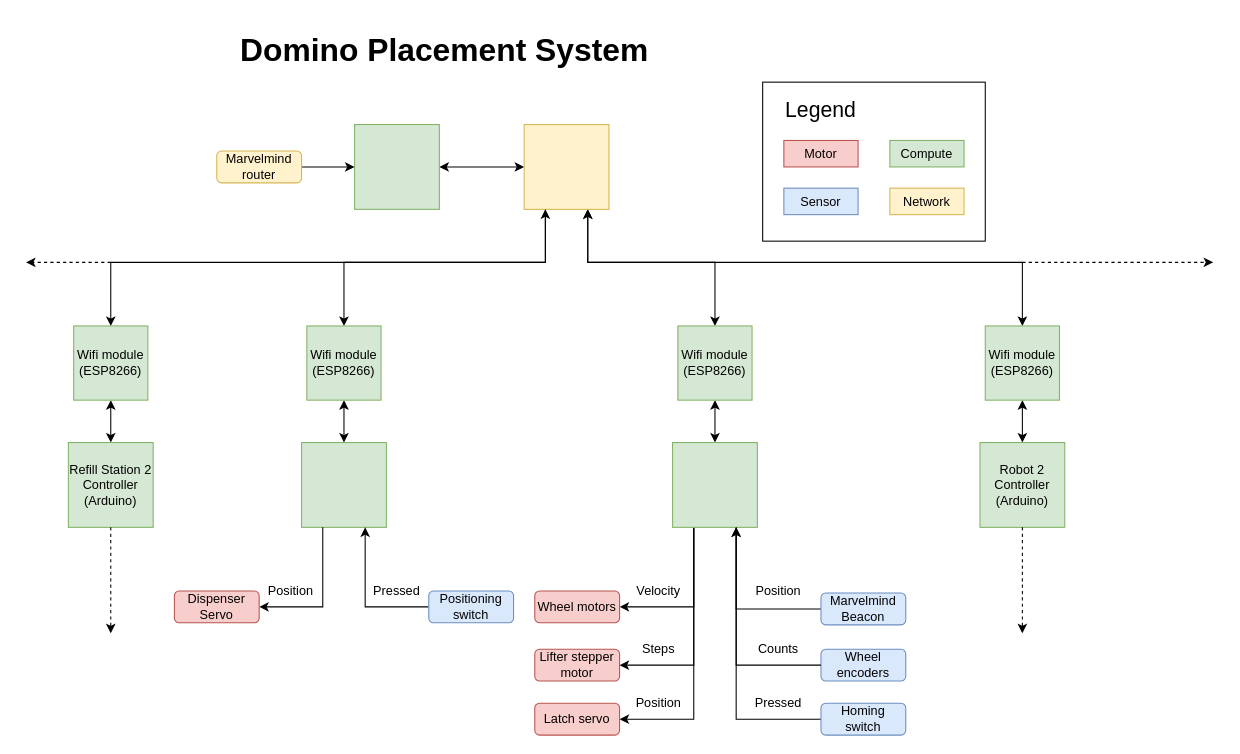
Image size: 1240x754. Some labels were removed from this diagram. The shapes that lost their labels are listed below. From the top down, each one's centre as x and y in pixels, then its label:
(396,166): Master PC
(566,166): Network switch/router
(343,484): Refill Station 1 Controller (Arduino)
(714,484): Robot 1 Controller (Arduino)
